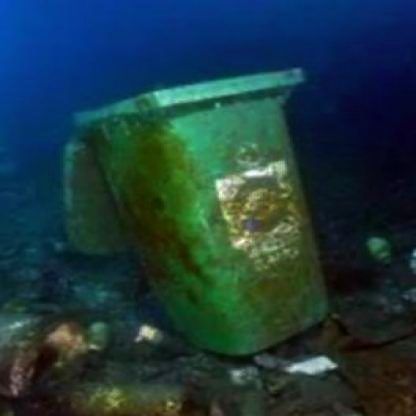misc: (74, 79, 416, 336)
